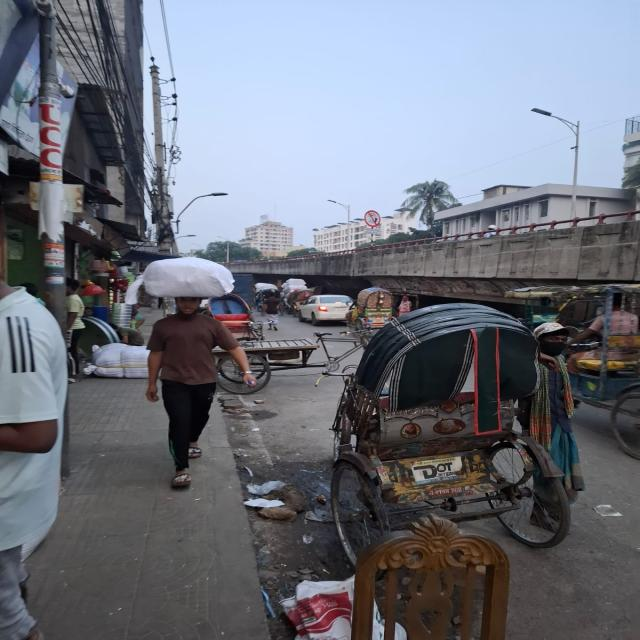person: (518, 322, 584, 532)
